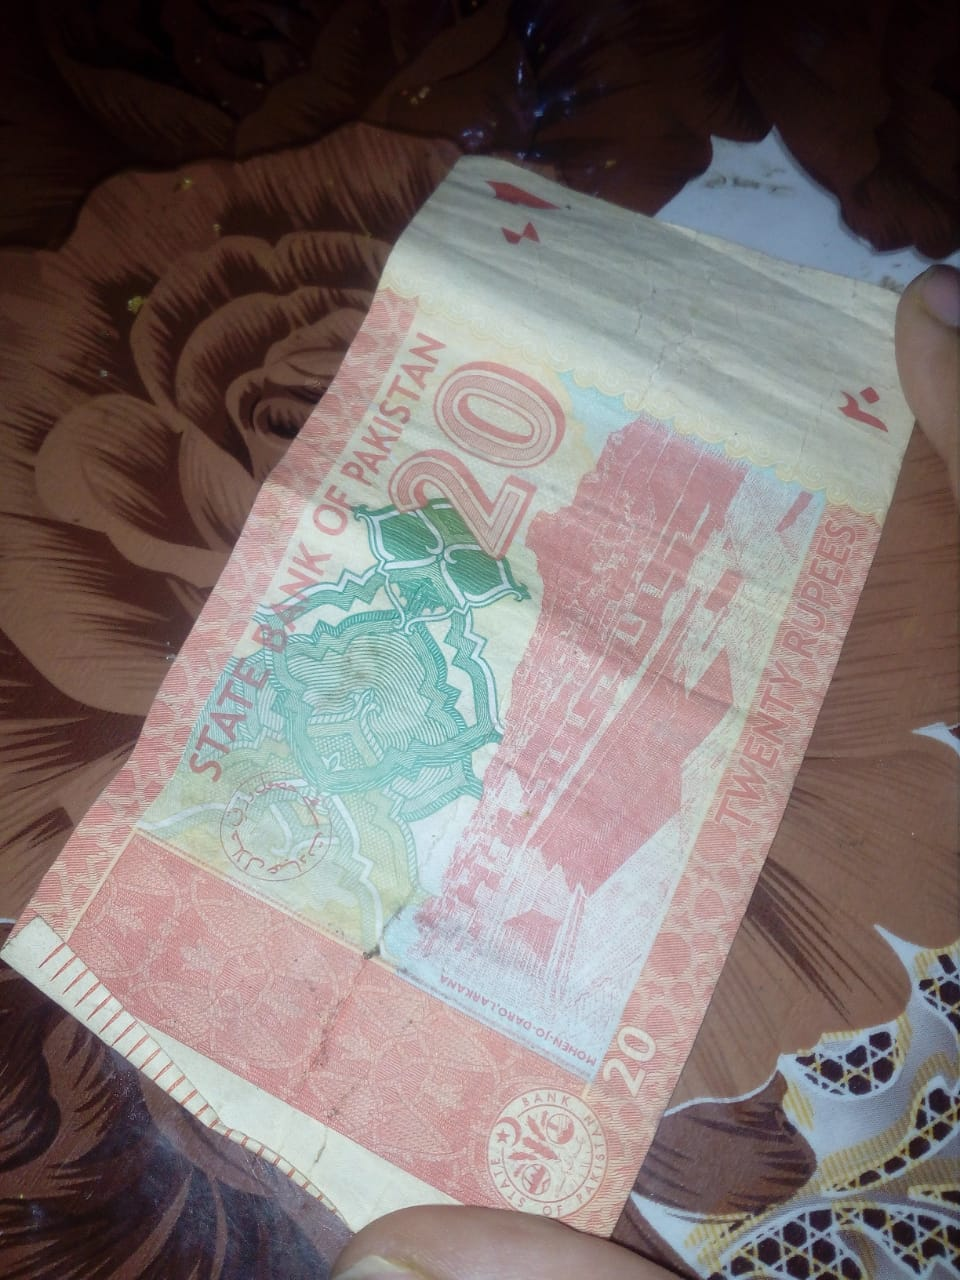20 rupee: (3, 147, 894, 1185)
